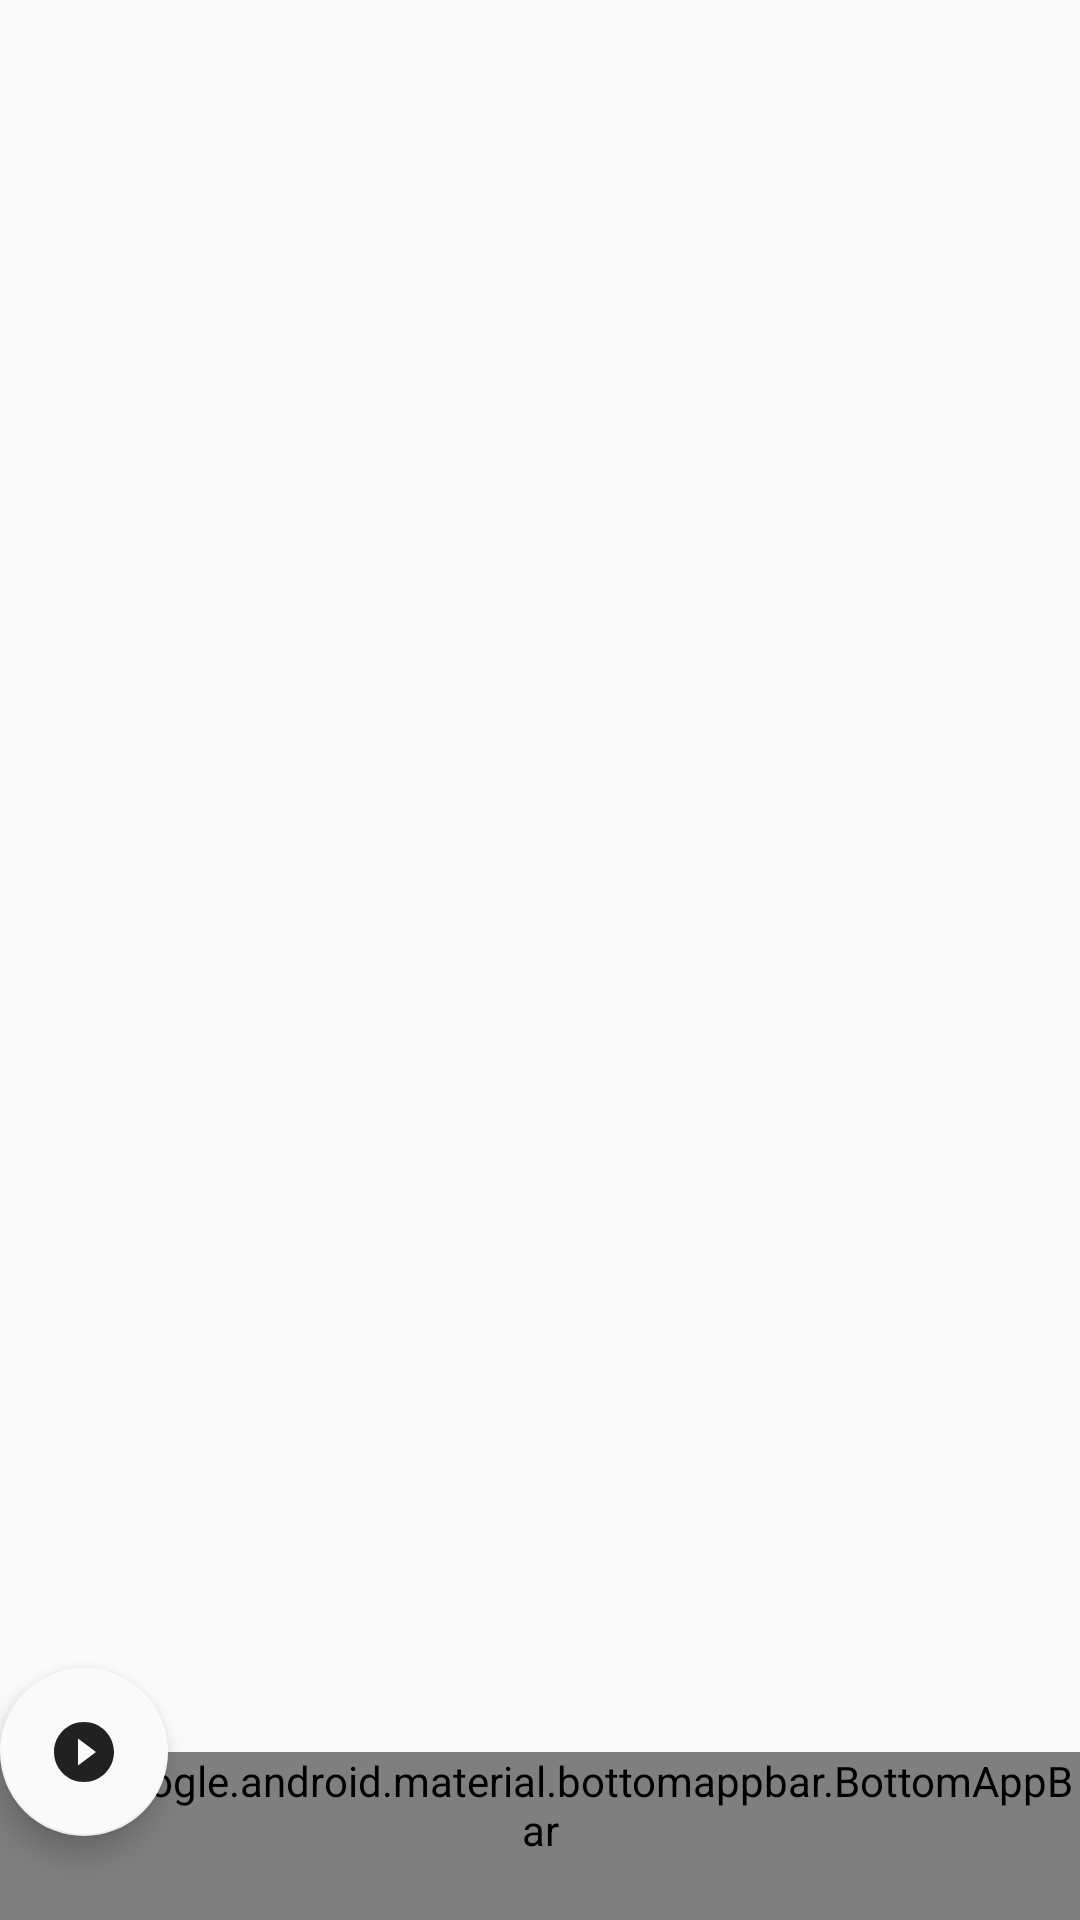

Point at icon controls on the screen. Image size 1080*1920, points as (x,y).
play circle: (84,1752)
